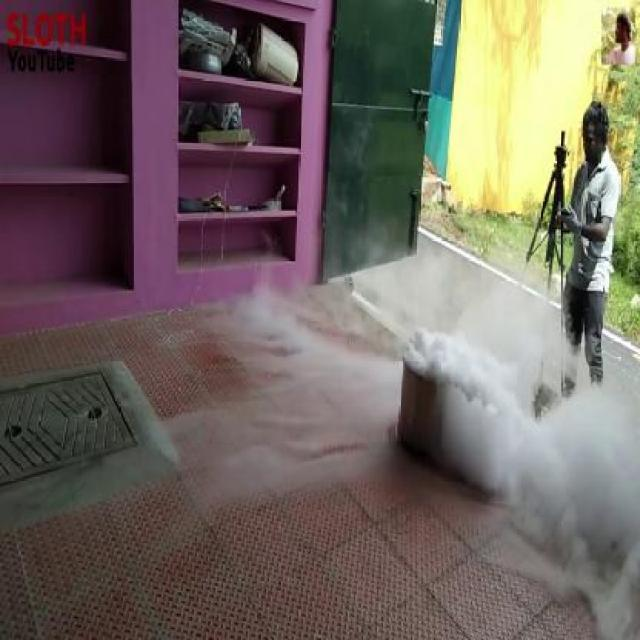smoke: (358, 260, 507, 496)
